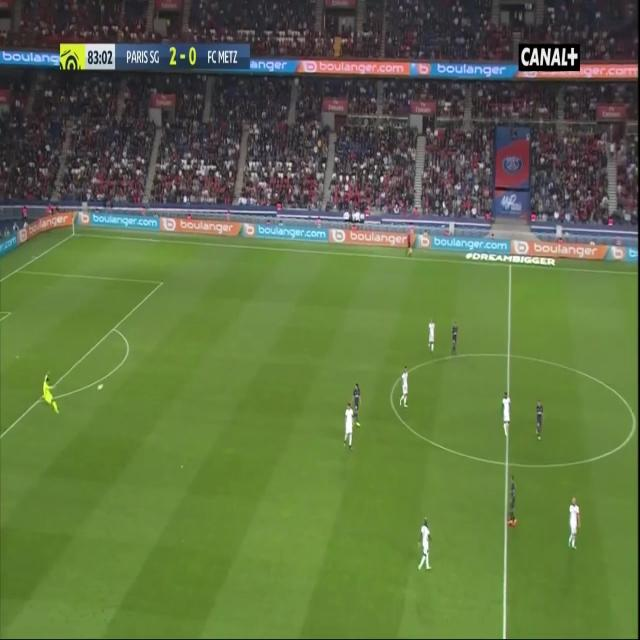Ball: (95, 378, 106, 400)
Goalkeeper: (41, 372, 61, 416)
Player: (416, 514, 433, 578), (568, 493, 584, 554), (506, 474, 518, 534), (342, 399, 355, 454), (398, 363, 412, 414), (351, 378, 364, 428), (500, 387, 512, 441), (448, 318, 461, 361), (424, 318, 438, 354), (533, 400, 544, 445)
Referee: (404, 230, 415, 261)
